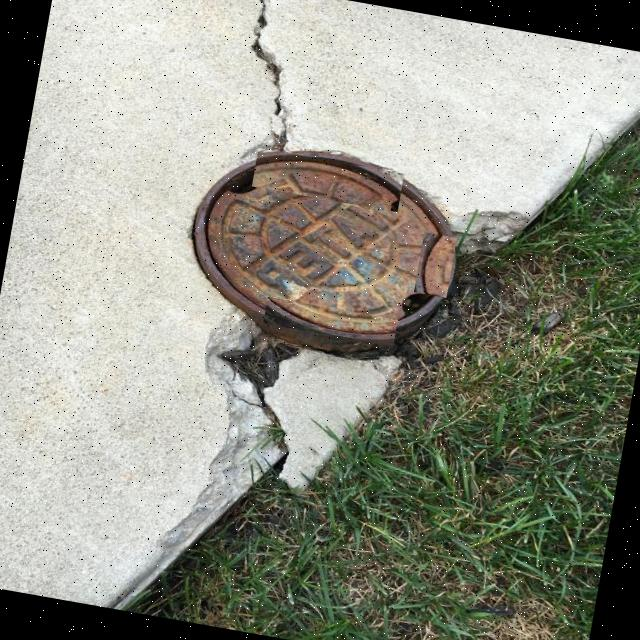Corrosion: (175, 127, 472, 372)
